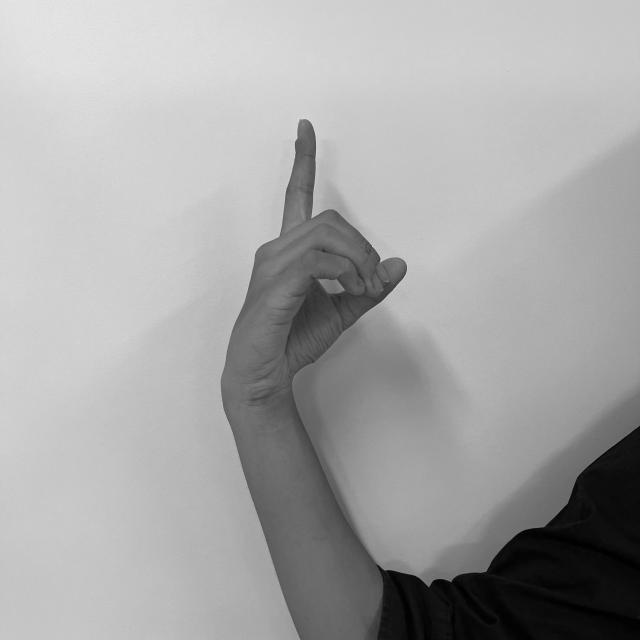Letra D: (216, 112, 412, 402)
